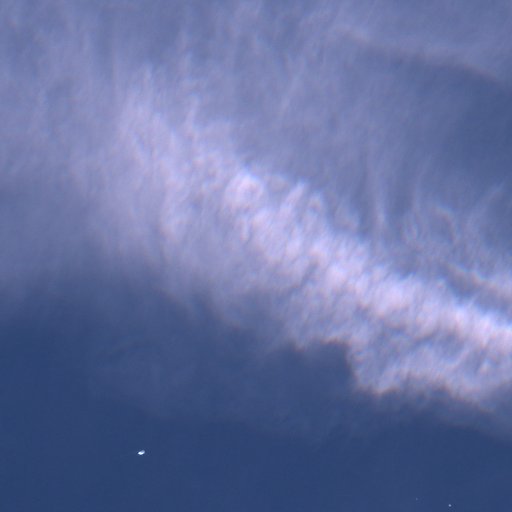Iceberg: (138, 450, 144, 454), (448, 504, 451, 506), (415, 498, 416, 499)
